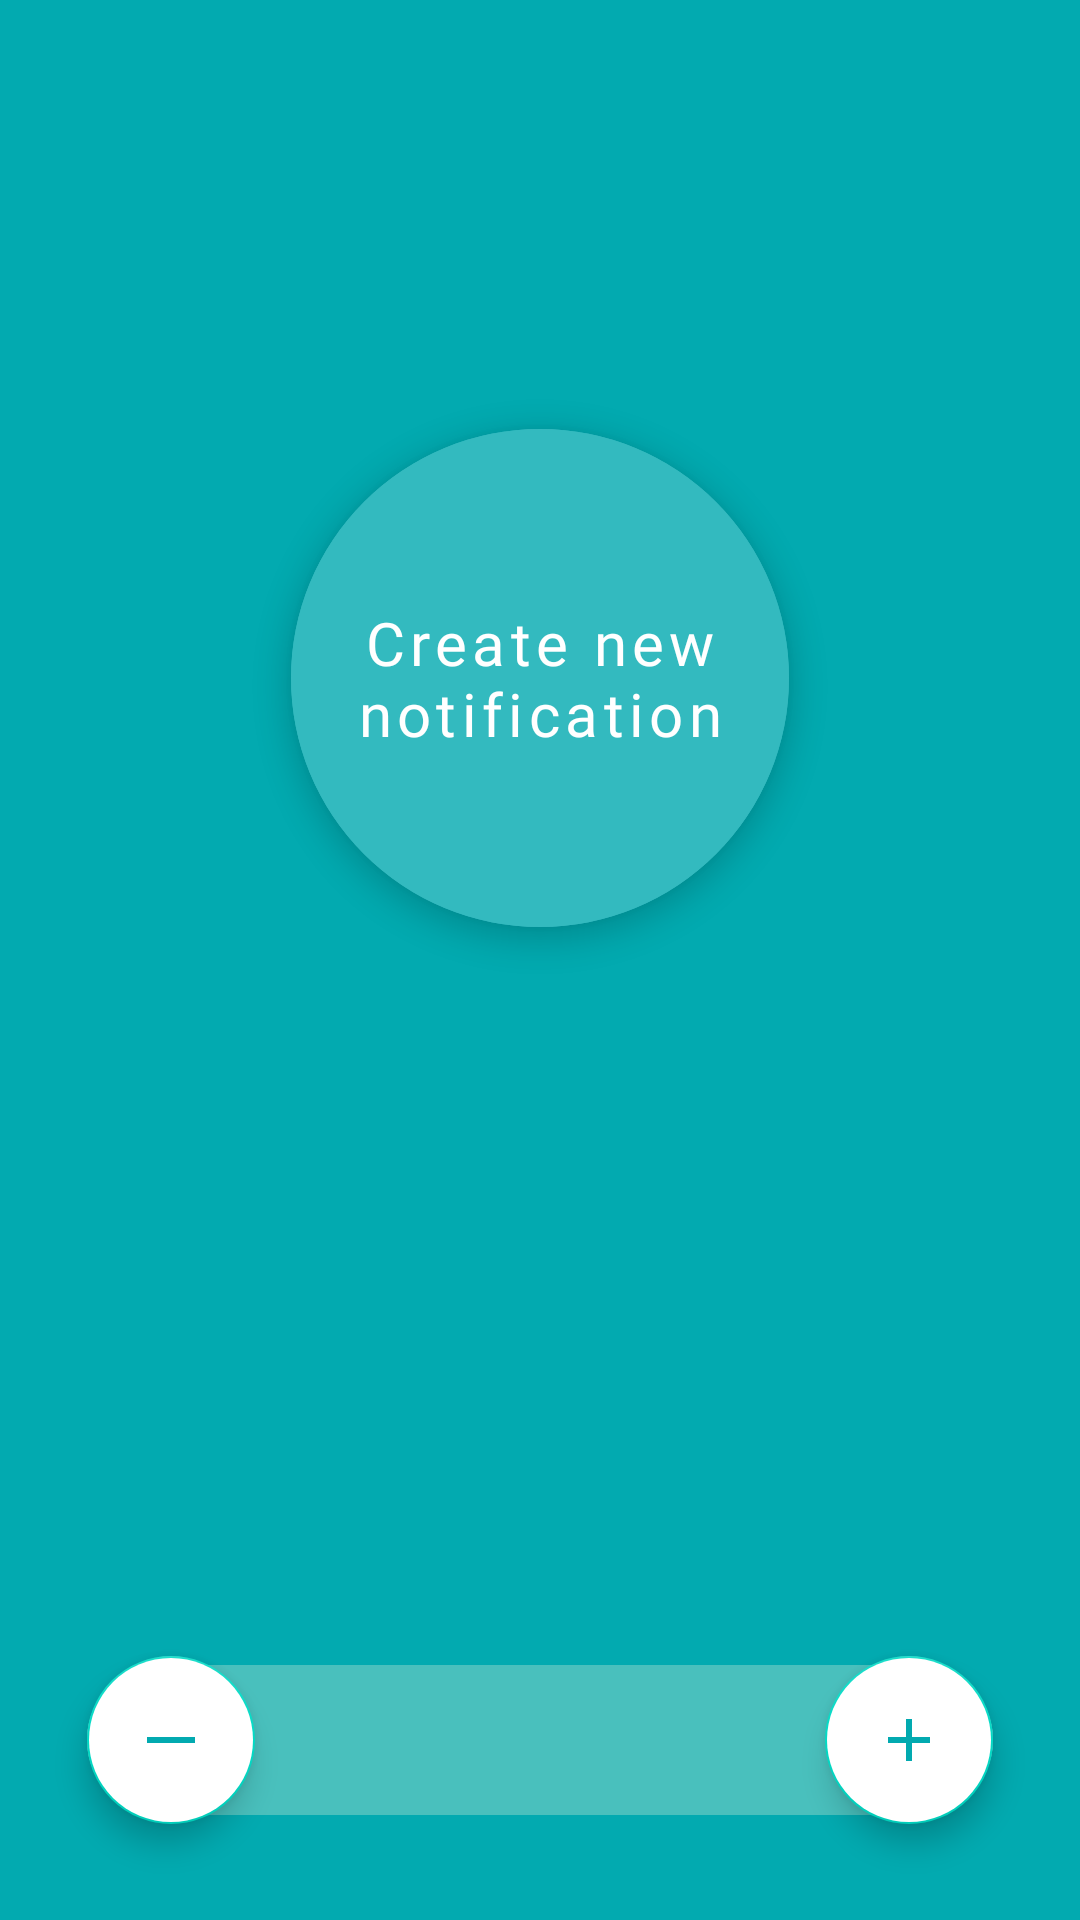

Icon bounding boxes for this 1080x1920 phone screenshot, format Rect(x1, y1, x2, y2):
minus: Rect(87, 1656, 255, 1824)
plus: Rect(825, 1656, 993, 1824)
